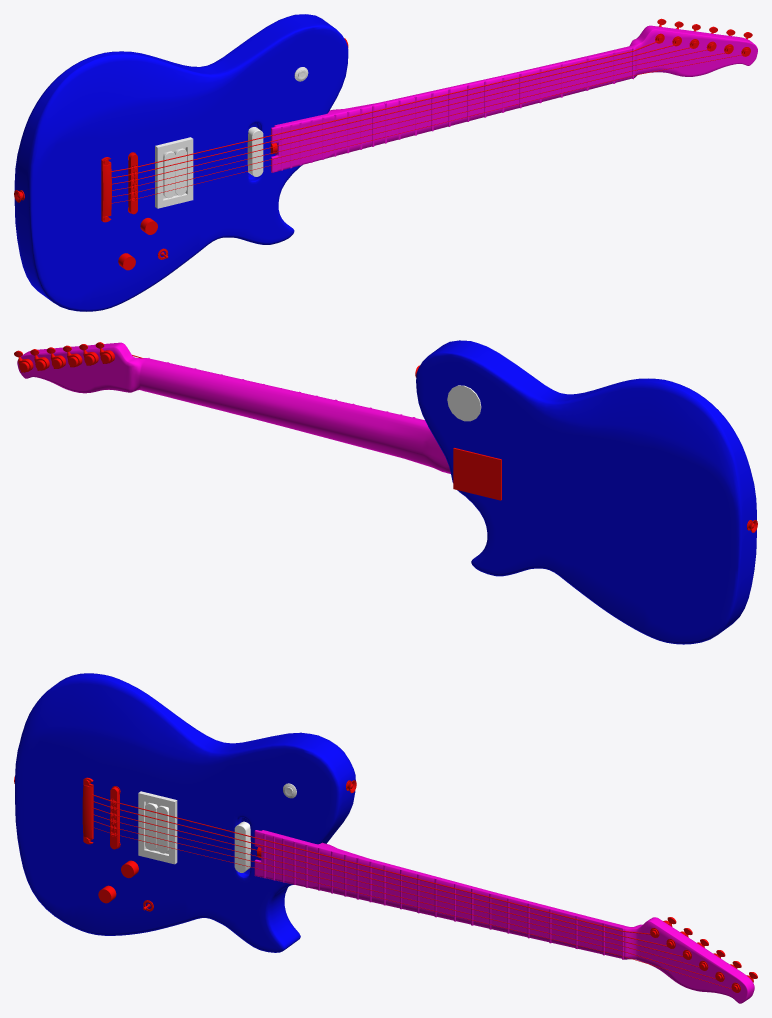
File: Guitar_HP.FBX
3 renders of one model, top to bottom at view 1: azimuth 30°, elevation 25°; view 2: azimuth 150°, elevation 25°; view 3: azimuth 330°, elevation 25°, orthographic. The views are drawn at different scales.
Parts seen in each view (by area): view 1: Guitar; view 2: Guitar; view 3: Guitar.
Part boxes in pixels (x1,y1,x2,y2): Guitar: [14, 14, 757, 311]; Guitar: [14, 340, 757, 644]; Guitar: [14, 673, 757, 1003].
Bounding box in the file's own units: 117 × 37.84 × 6.67.
